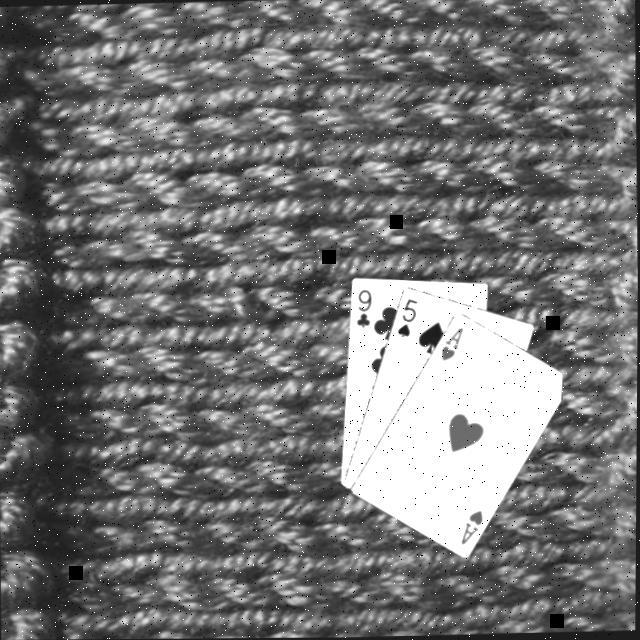5S: (392, 296, 420, 341)
9C: (352, 286, 374, 332)
AH: (436, 324, 466, 364), (456, 508, 485, 548)
